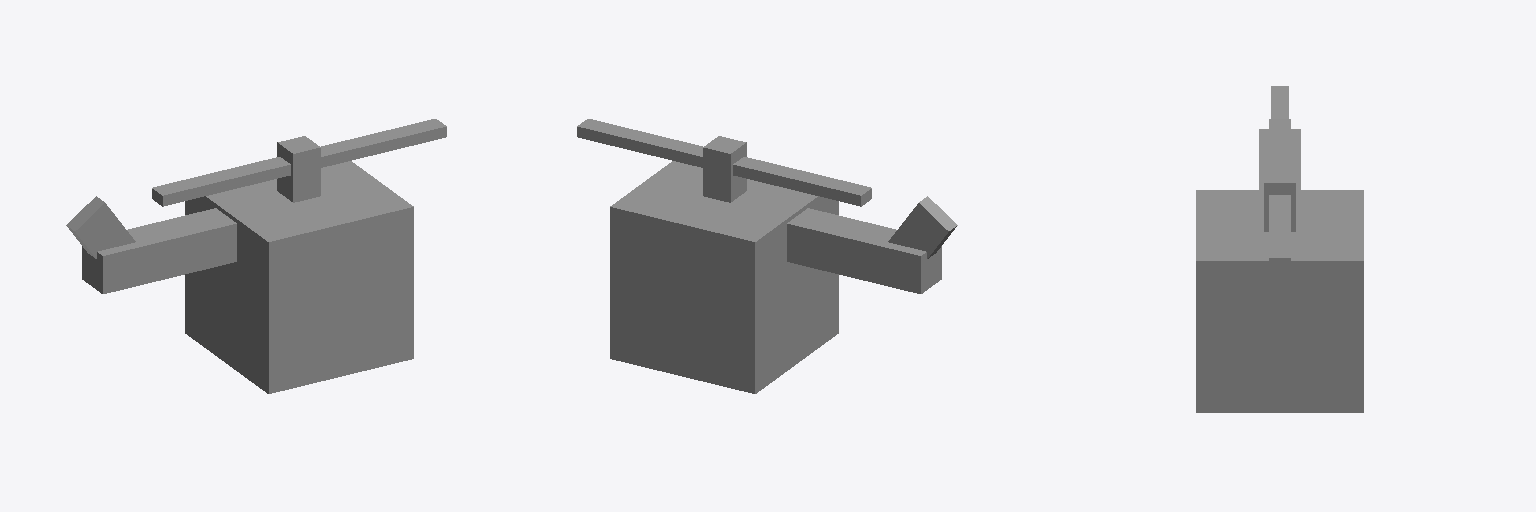
Rendered from helicopter.obj.
The picture shows the model from 3 angles: view 1: azimuth 30°, elevation 25°; view 2: azimuth 150°, elevation 25°; view 3: azimuth 270°, elevation 25°; orthographic projection.
Visible parts, largest first — view 1: Cube; view 2: Cube; view 3: Cube.
Part boxes in pixels (x1,y1,x2,y2): Cube: (66,119,446,393); Cube: (577,119,957,393); Cube: (1196,86,1363,412).
Size of the model in its own units: 5.1 by 2.64 by 2.